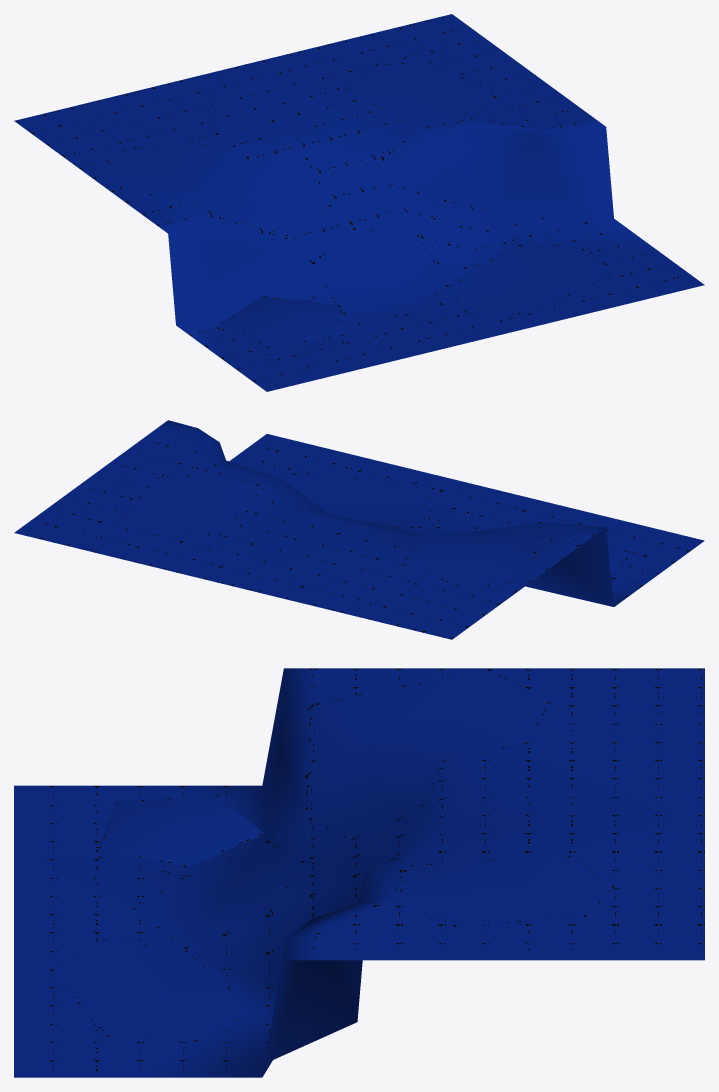
The model's file is GRD_S_C1_S_1.fbx.
The picture shows the model from 3 angles, top to bottom: view 1: azimuth 30°, elevation 25°; view 2: azimuth 150°, elevation 25°; view 3: azimuth 270°, elevation 25°; orthographic projection. The views are drawn at different scales.
Visible parts, largest first — view 1: material_00022000, material_C0032000, material_00042000, material_C0012000, material_C0052000; view 2: material_00022000, material_C0032000, material_00042000; view 3: material_00022000, material_C0032000, material_00042000, material_C0012000, material_C0052000.
Boxes of the visible parts, left/top/right/bottom form: material_00022000: left=14, top=14, right=704, bottom=391; material_C0032000: left=93, top=61, right=610, bottom=315; material_00042000: left=156, top=118, right=613, bottom=325; material_C0012000: left=220, top=296, right=345, bottom=347; material_C0052000: left=220, top=327, right=345, bottom=355; material_00022000: left=14, top=429, right=704, bottom=639; material_C0032000: left=122, top=472, right=541, bottom=586; material_00042000: left=156, top=420, right=613, bottom=606; material_00022000: left=14, top=668, right=704, bottom=1077; material_C0032000: left=50, top=668, right=615, bottom=1041; material_00042000: left=262, top=668, right=408, bottom=1076; material_C0012000: left=98, top=794, right=264, bottom=866; material_C0052000: left=98, top=837, right=262, bottom=876.
Size of the model in its own units: 12800 by 2400 by 12800.
